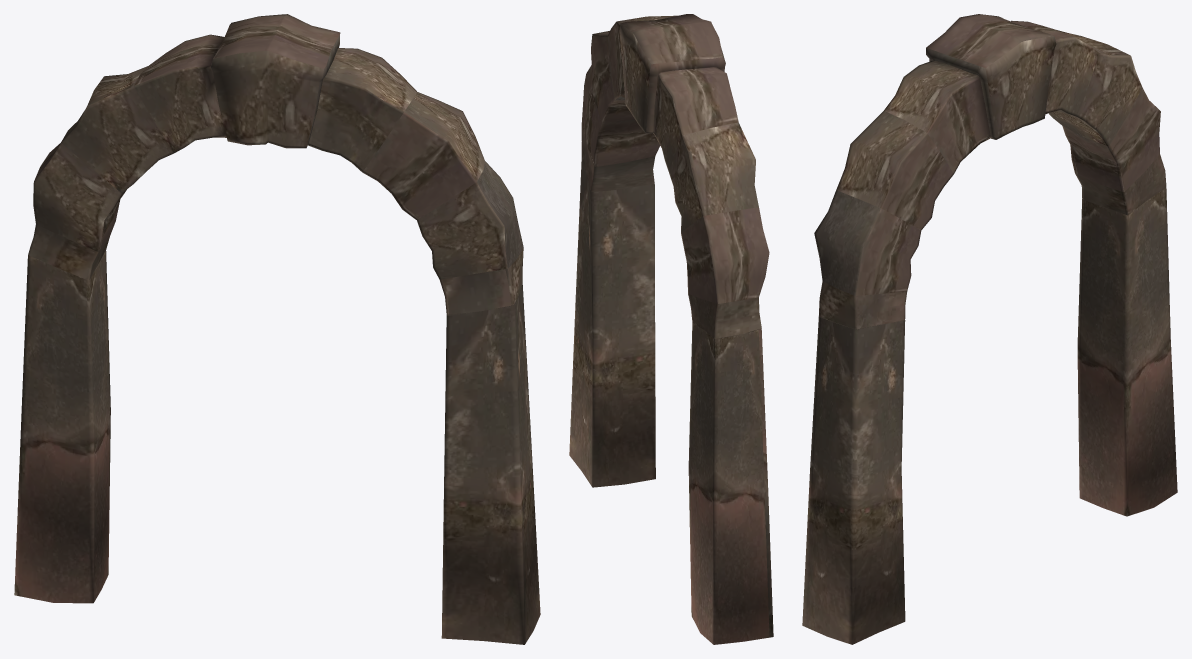
Rendered from right-door-transformed.glb.
3 renders of one model, left to right at view 1: azimuth 30°, elevation 25°; view 2: azimuth 150°, elevation 25°; view 3: azimuth 270°, elevation 25°, orthographic. The views are drawn at different scales.
Parts seen in each view (by area): view 1: StoneGateway.001; view 2: StoneGateway.001; view 3: StoneGateway.001.
Part boxes in pixels (x1,y1,x2,y2): StoneGateway.001: [14, 14, 540, 644]; StoneGateway.001: [569, 14, 773, 644]; StoneGateway.001: [802, 14, 1177, 644].
Size of the model in its own units: 2.7 by 3.98 by 2.53.
1 material, 1 textured.
